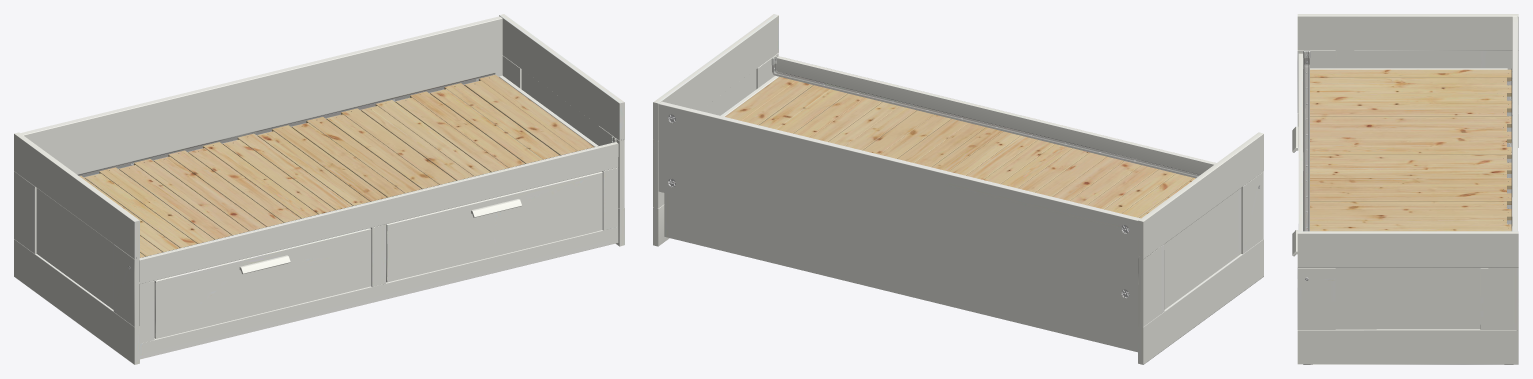
The model's file is 4-BRIMNES White - day bed frame with 2 Drawers (00228705).glb.
The picture shows the model from 3 angles, left to right: view 1: azimuth 30°, elevation 25°; view 2: azimuth 150°, elevation 25°; view 3: azimuth 270°, elevation 25°; orthographic projection. The views are drawn at different scales.
Visible parts, largest first — view 1: model; view 2: model; view 3: model.
Boxes of the visible parts, x1,y1,x2,y2 form: model: (14, 14, 624, 364); model: (653, 14, 1263, 364); model: (1292, 14, 1518, 364).
Size of the model in its own units: 2.05 by 0.5743 by 0.8915.
Materials: 1 (1 with a texture image).
